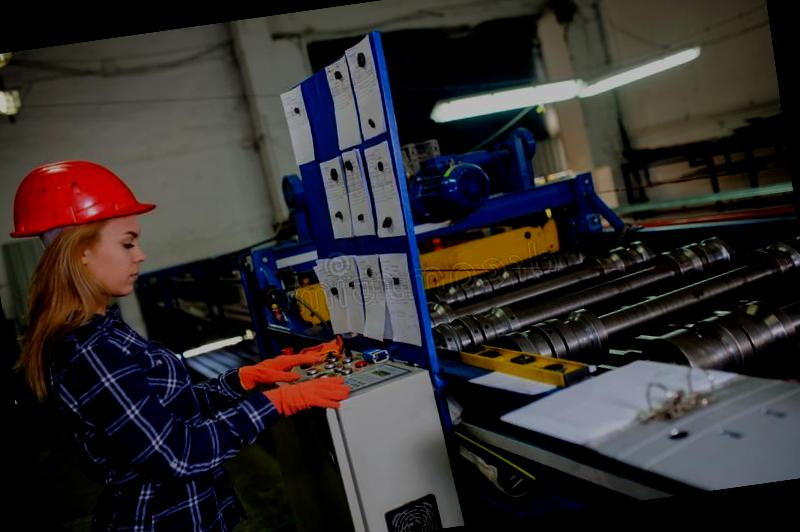helmet: (0, 143, 170, 265)
no_vest: (37, 290, 234, 532)
person: (0, 134, 261, 532)
